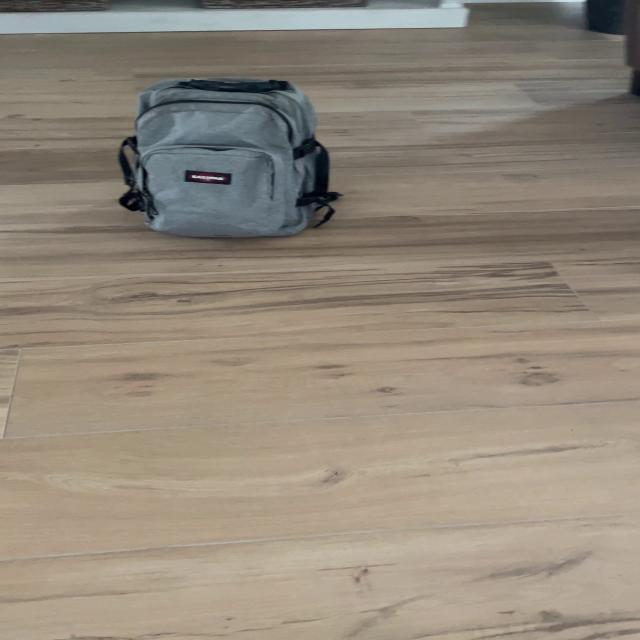backpack: (102, 68, 349, 246)
